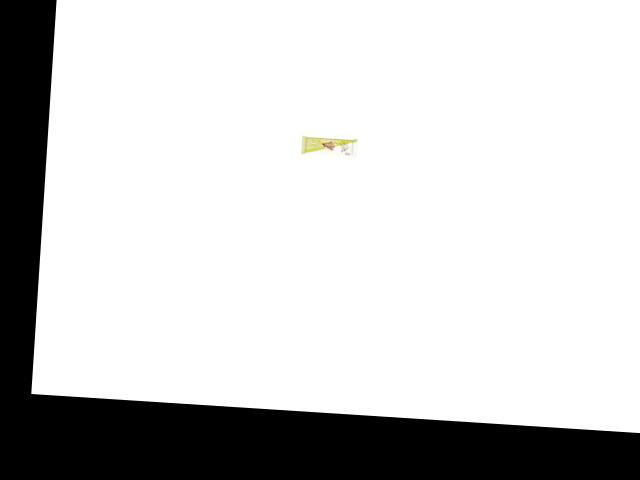chocolate: (297, 130, 361, 162)
